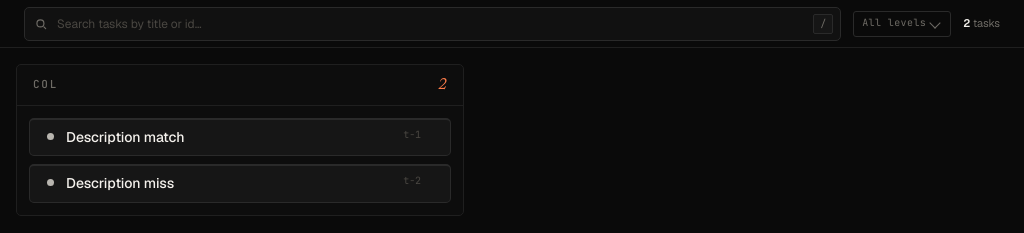
KanbanBoard › search filtering › filters cards by task description
Type "search needle" into the search field labelled "Search tasks by title or id" at (433, 24), box [24,6,841,40]
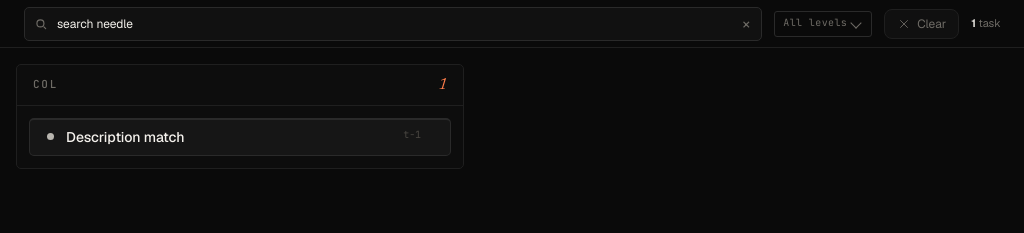
Expected: the heading "Description match" is shown, [66,128,184,146]
Expected: the button "Description miss" is gone
